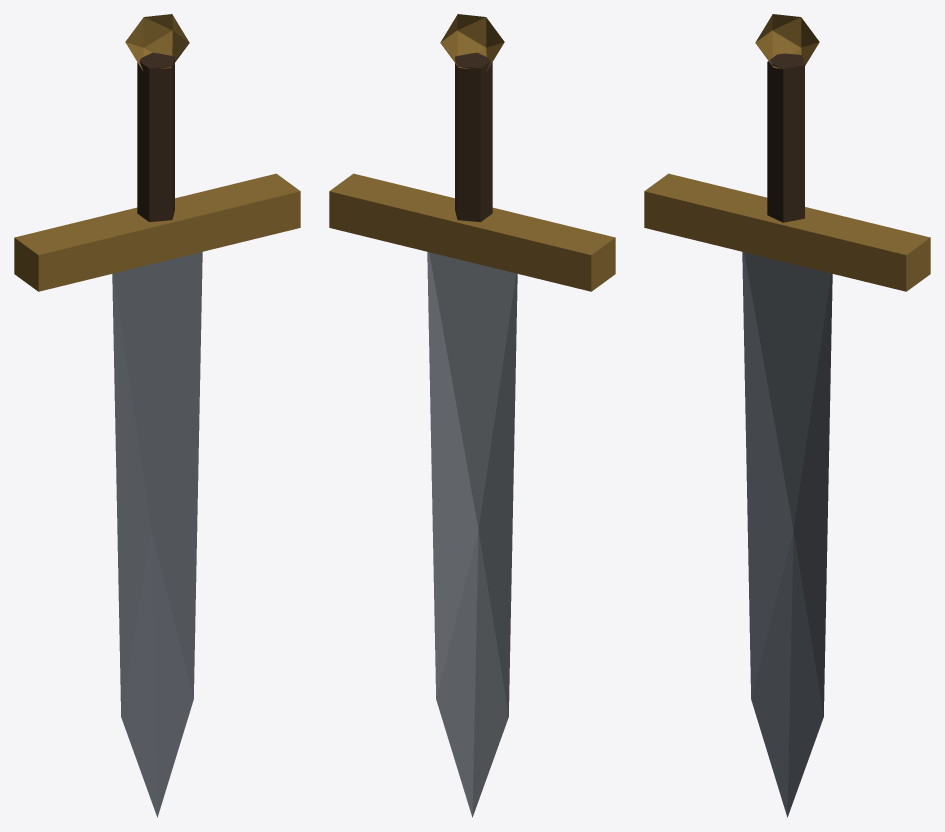
Rendered from dk_sword.glb.
The picture shows the model from 3 angles, left to right: view 1: azimuth 30°, elevation 25°; view 2: azimuth 150°, elevation 25°; view 3: azimuth 330°, elevation 25°; orthographic projection.
Visible parts, largest first — view 1: dk_sword; view 2: dk_sword; view 3: dk_sword.
Part boxes in pixels (x1,y1,x2,y2): dk_sword: (14,14,300,817); dk_sword: (329,14,615,817); dk_sword: (644,14,930,817).
Size of the model in its own units: 0.75 by 2.19 by 0.1361.
1 material, 1 textured.
